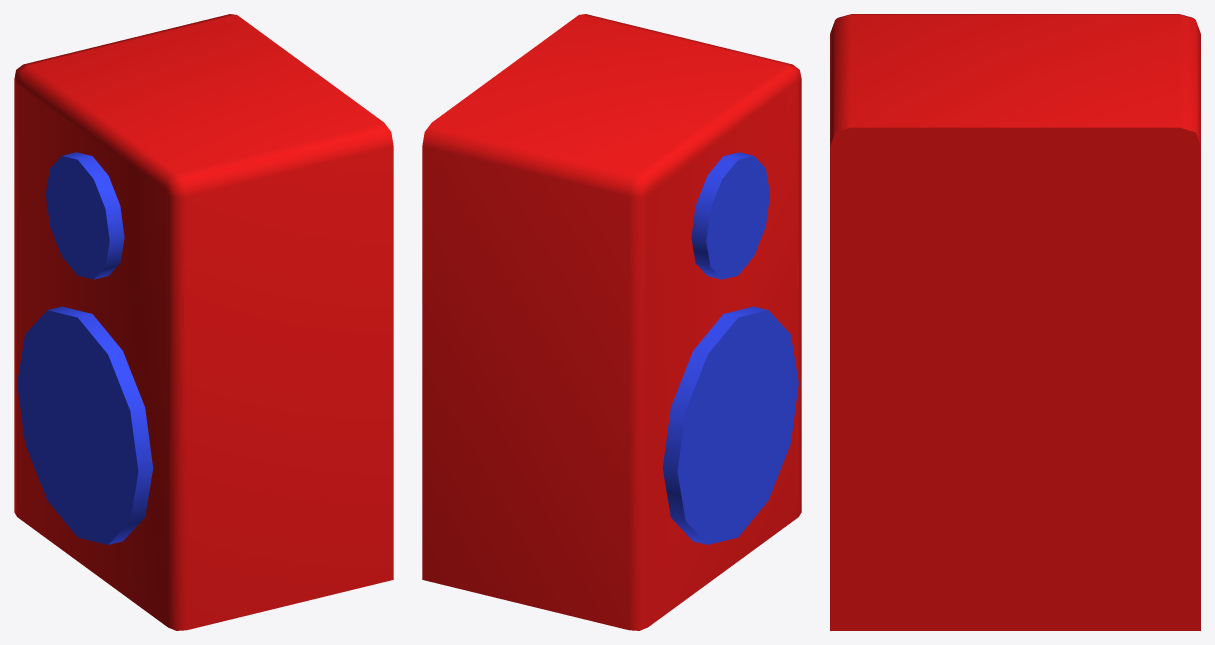
The model's file is loa.FBX.
3 views of the same model, side by side, from view 1: azimuth 30°, elevation 25°; view 2: azimuth 150°, elevation 25°; view 3: azimuth 270°, elevation 25° (orthographic). The views are drawn at different scales.
Visible parts, largest first — view 1: Box1208; view 2: Box1208; view 3: Box1208.
Part boxes in pixels (x1,y1,x2,y2): Box1208: (14, 14, 393, 630); Box1208: (422, 14, 801, 630); Box1208: (830, 14, 1200, 630).
Bounding box in the file's own units: 0.689 × 1.27 × 0.8502.
